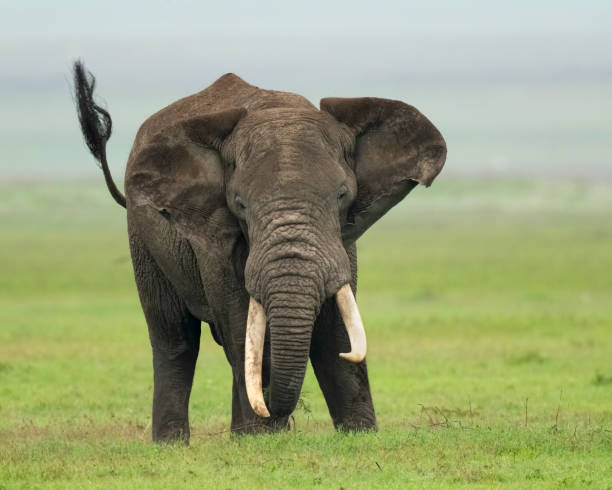africanelephant: (159, 106, 384, 384)
